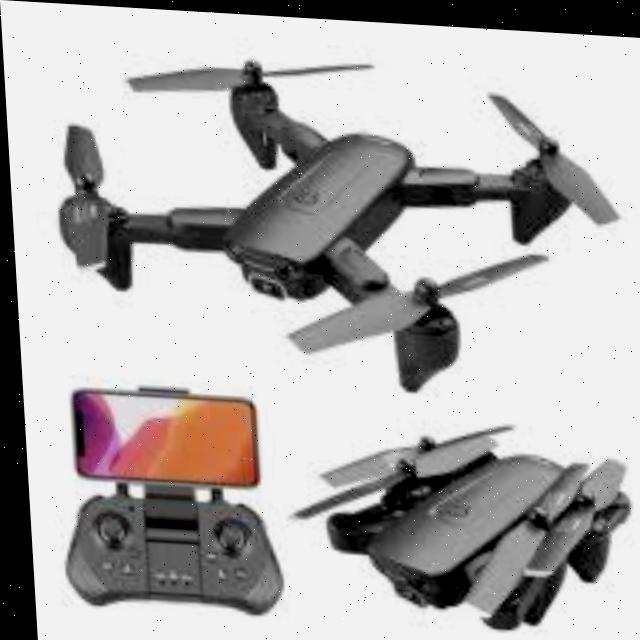drone: (20, 31, 629, 398)
